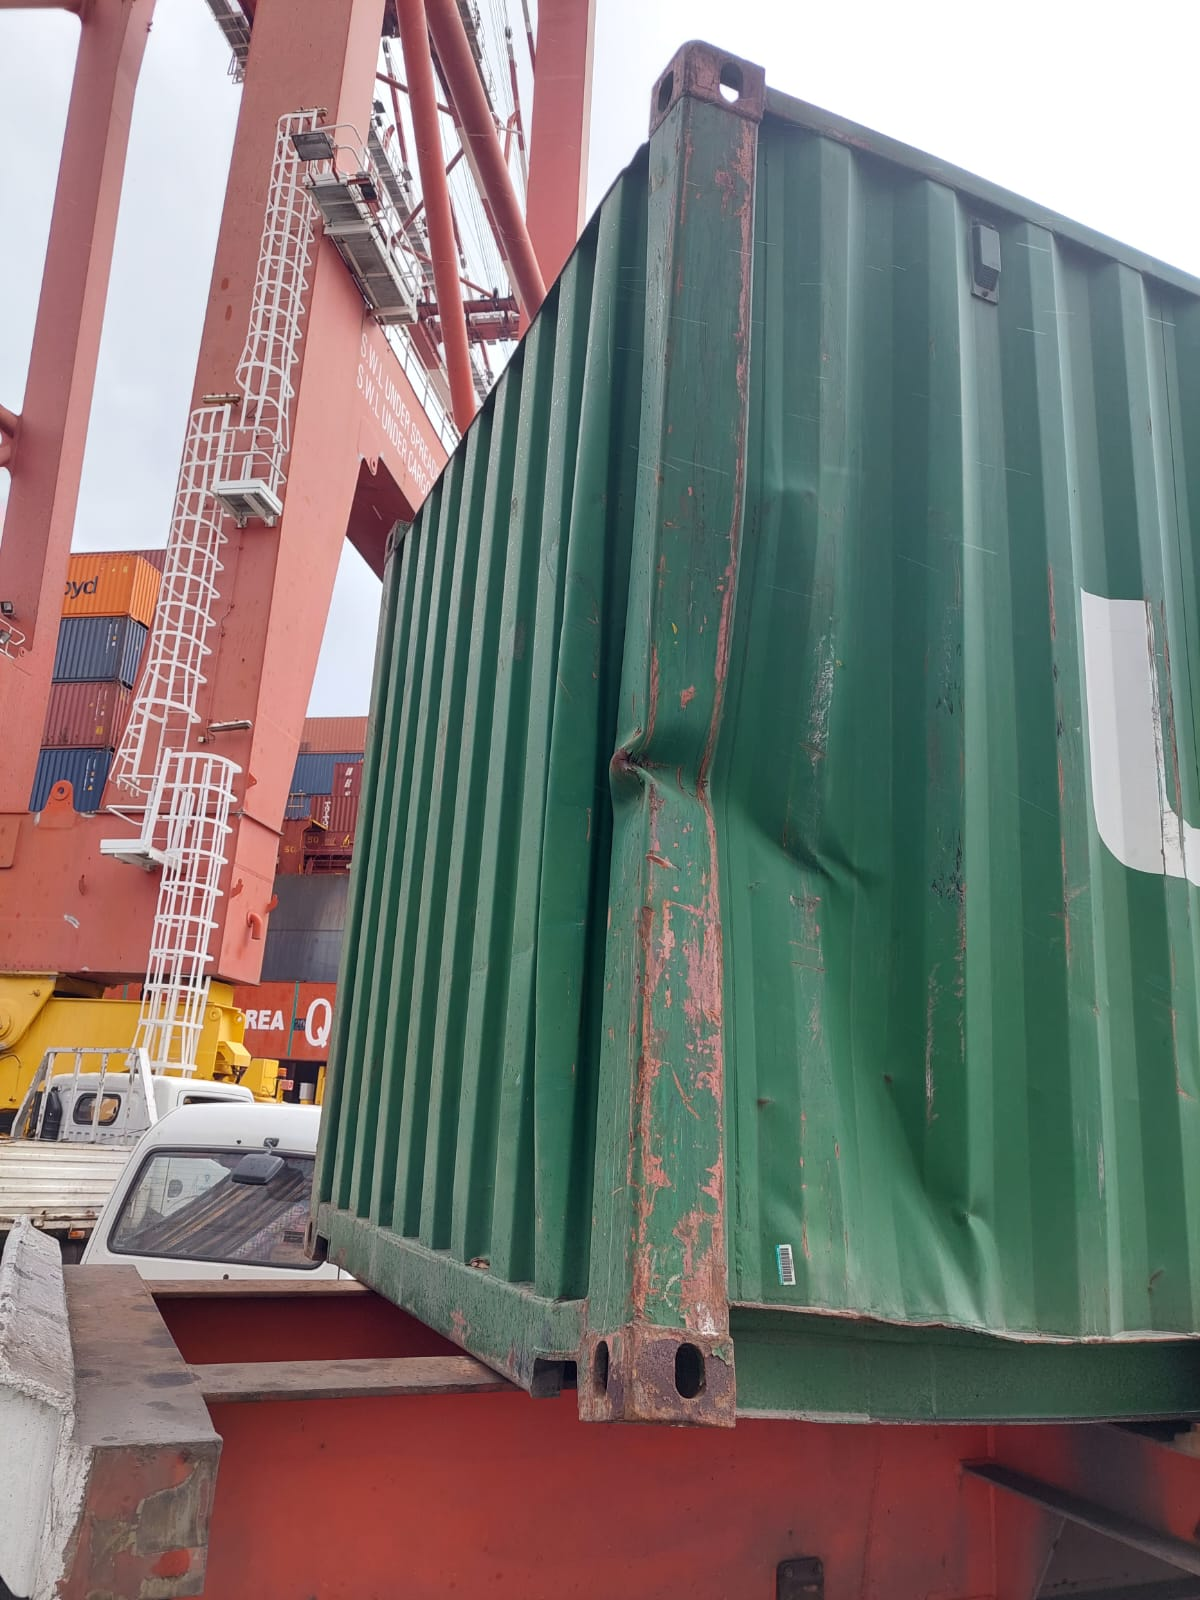dented: (605, 455, 903, 1117)
